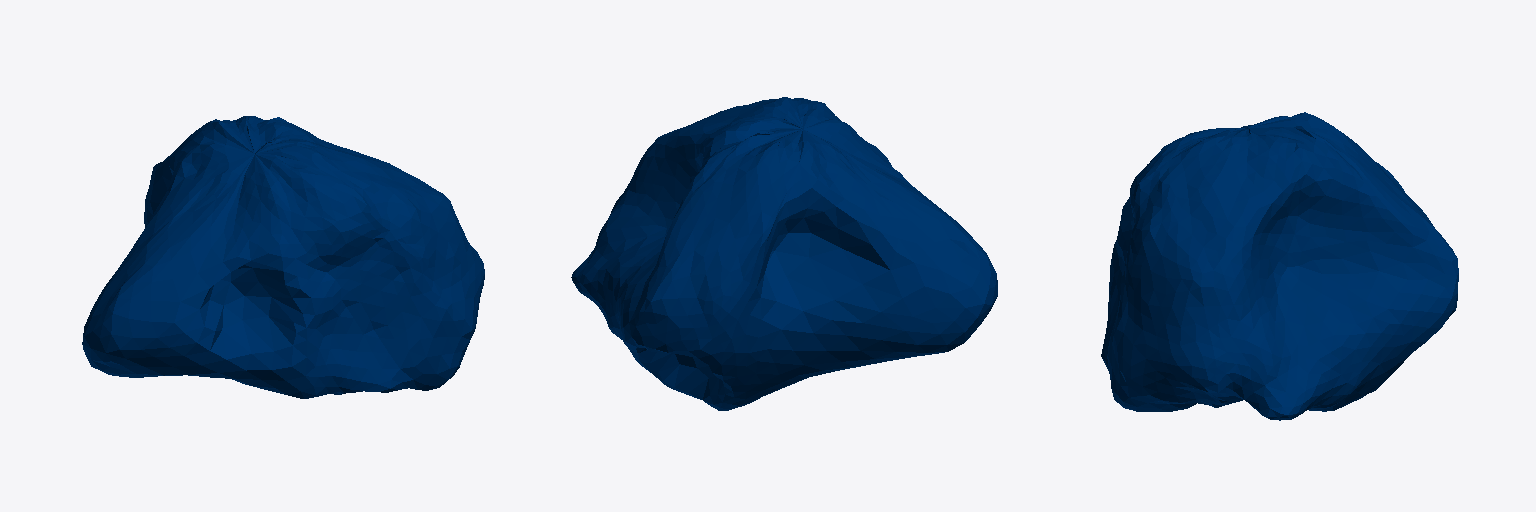
The model's file is Asteroid.obj.
3 views of the same model, side by side, from view 1: azimuth 30°, elevation 25°; view 2: azimuth 150°, elevation 25°; view 3: azimuth 270°, elevation 25° (orthographic).
Visible parts, largest first — view 1: Sphere; view 2: Sphere; view 3: Sphere.
Part boxes in pixels (bbox=[...]): Sphere: bbox=[82, 116, 484, 398]; Sphere: bbox=[571, 97, 997, 410]; Sphere: bbox=[1101, 112, 1458, 420].
Bounding box in the file's own units: 2.98 × 1.93 × 2.38.